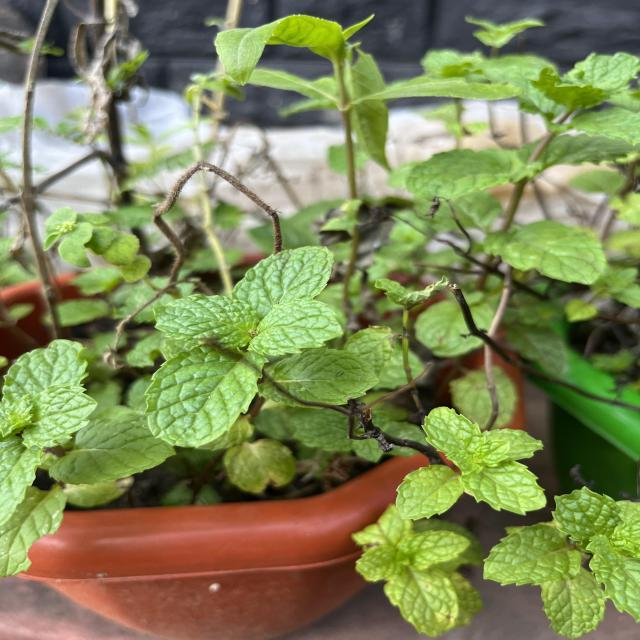Mentha spicata: (144, 344, 270, 450), (482, 522, 584, 587), (153, 293, 259, 351), (247, 298, 346, 357), (394, 464, 466, 522), (420, 406, 482, 455)
